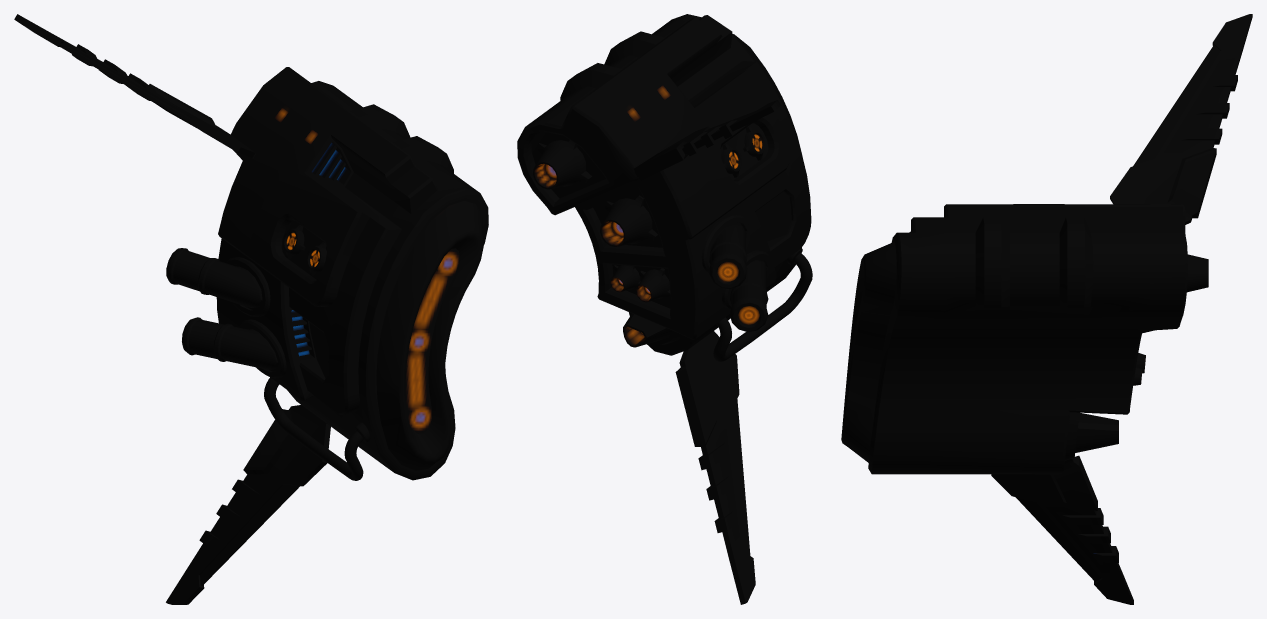
Rendered from SM_L_Engine_2.fbx.
3 renders of one model, left to right at view 1: azimuth 30°, elevation 25°; view 2: azimuth 150°, elevation 25°; view 3: azimuth 270°, elevation 25°, orthographic. The views are drawn at different scales.
Visible parts, largest first — view 1: SM_L_Engine_2; view 2: SM_L_Engine_2; view 3: SM_L_Engine_2.
Boxes of the visible parts, <box> form: SM_L_Engine_2: <box>14,14,488,604</box>; SM_L_Engine_2: <box>517,14,812,604</box>; SM_L_Engine_2: <box>841,14,1252,604</box>.
Bounding box in the file's own units: 70.68 × 127 × 86.58.
